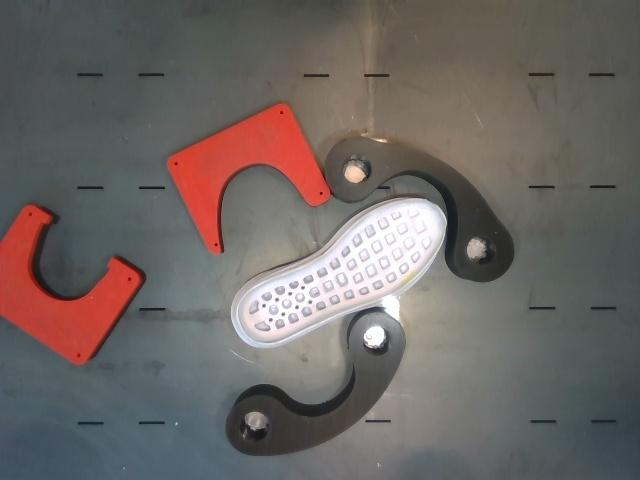shoes: (237, 200, 446, 344)
